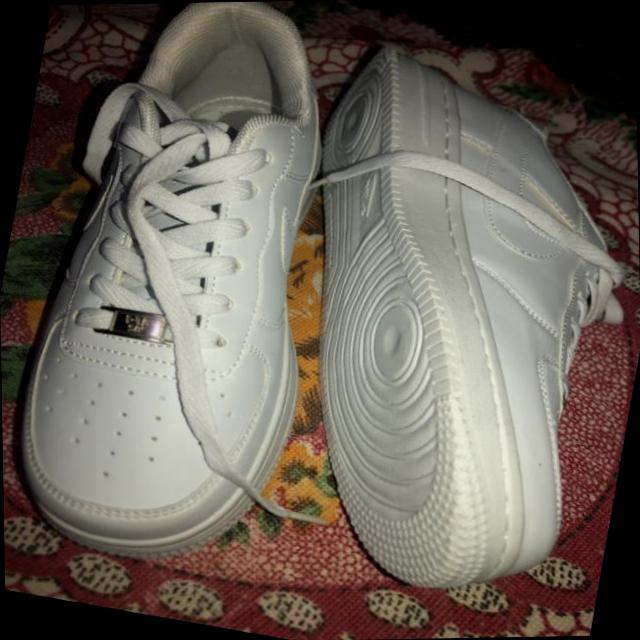nike_fake_airforce: (239, 11, 640, 617), (0, 0, 372, 581)
